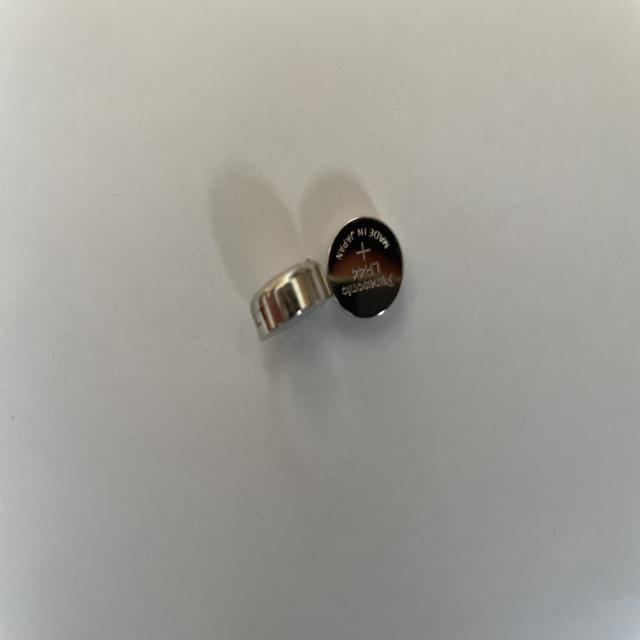COIN: (328, 218, 404, 320), (250, 259, 332, 338)
